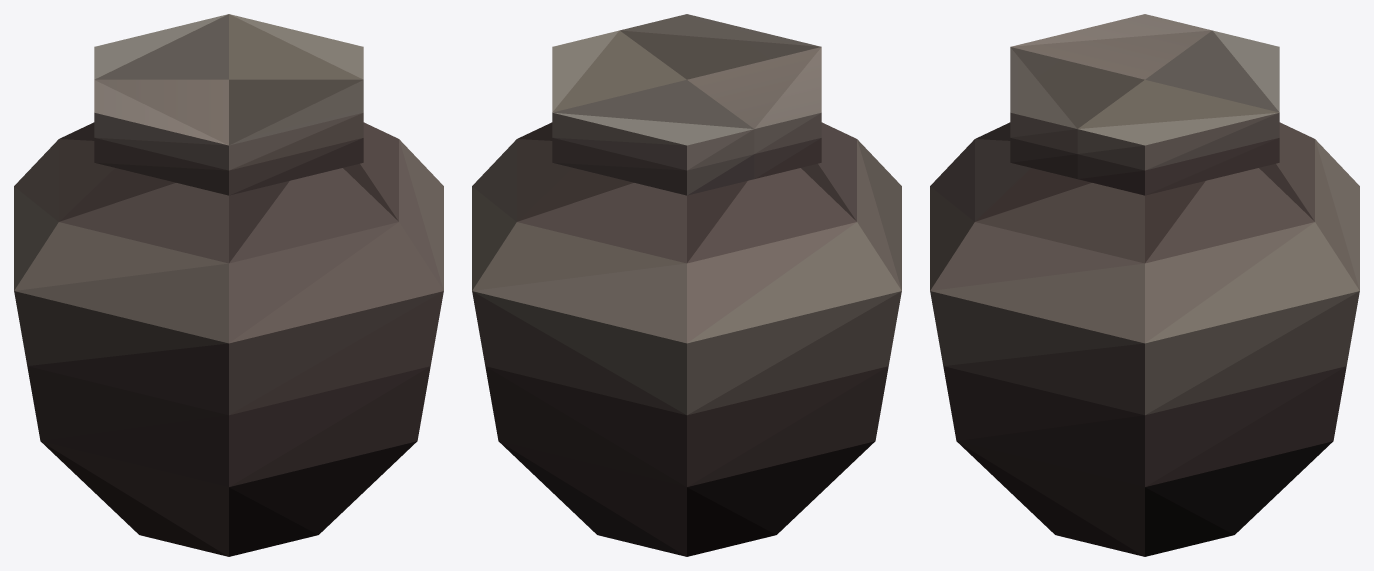
The model's file is prop_container_vase_8.fbx.
3 renders of one model, left to right at view 1: azimuth 30°, elevation 25°; view 2: azimuth 150°, elevation 25°; view 3: azimuth 270°, elevation 25°, orthographic.
Visible parts, largest first — view 1: prop_container_vase_8; view 2: prop_container_vase_8; view 3: prop_container_vase_8.
Part boxes in pixels (x1,y1,x2,y2): prop_container_vase_8: [14, 14, 443, 556]; prop_container_vase_8: [472, 14, 901, 556]; prop_container_vase_8: [930, 14, 1359, 556].
Size of the model in its own units: 0.6656 by 0.6413 by 0.5764.
